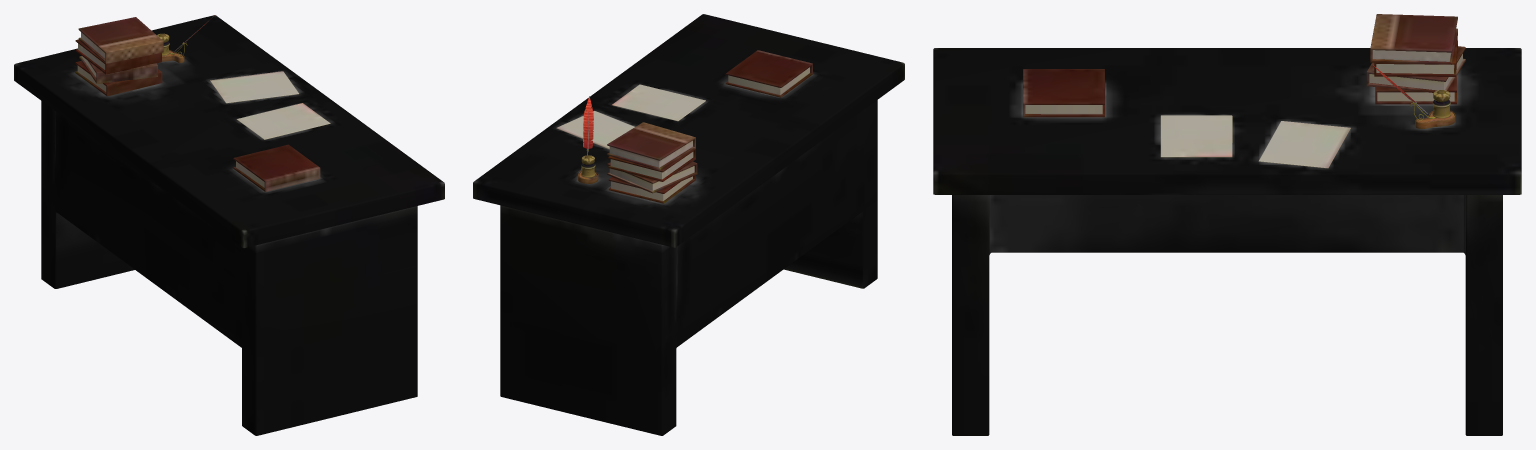
File: desk.glb
3 views of the same model, side by side, from view 1: azimuth 30°, elevation 25°; view 2: azimuth 150°, elevation 25°; view 3: azimuth 270°, elevation 25° (orthographic). The views are drawn at different scales.
Parts seen in each view (by area): view 1: table_legs, book.003; view 2: table_legs, book.003; view 3: table_legs, book.003.
Boxes of the visible parts, box(x1,y1,x2,y2) form: table_legs: box(14, 15, 444, 435); book.003: box(75, 15, 330, 191); table_legs: box(473, 14, 904, 435); book.003: box(556, 50, 812, 203); table_legs: box(933, 48, 1521, 435); book.003: box(1023, 14, 1465, 168).
Size of the model in its own units: 0.2672 by 0.3434 by 0.526.
Materials: 2 (2 with a texture image).
